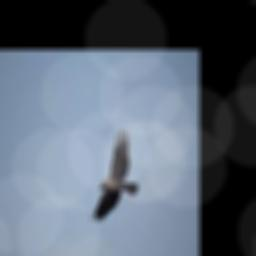Crow: (94, 127, 138, 221)
